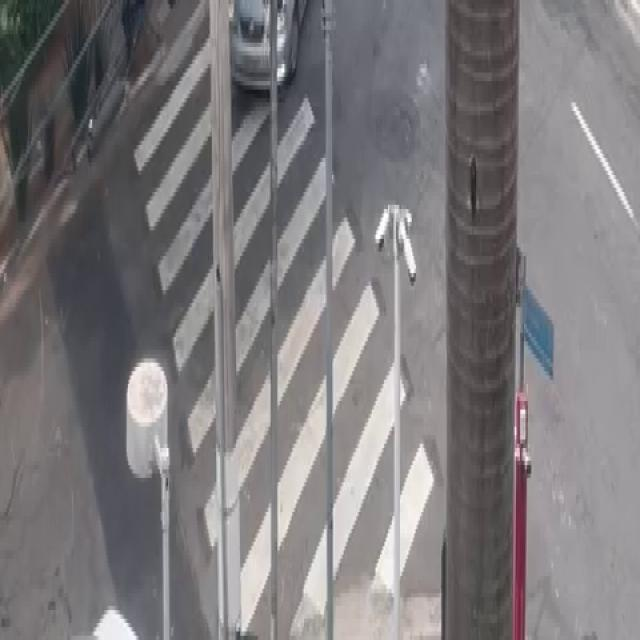car: (231, 0, 308, 85)
